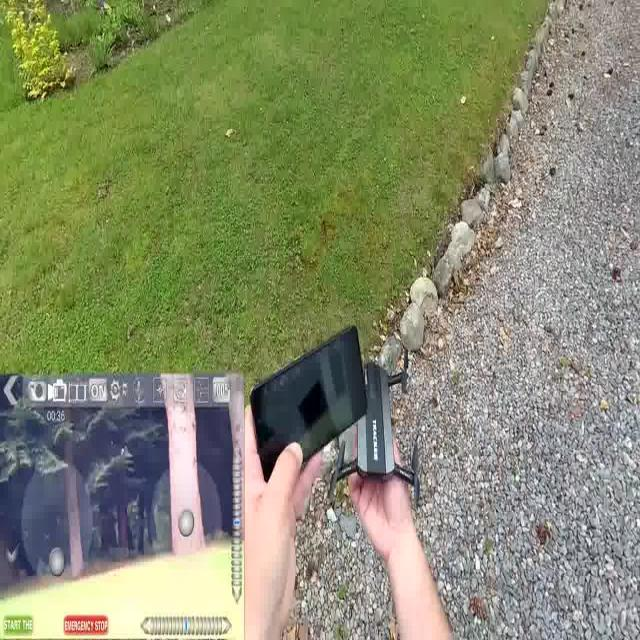drones: (320, 340, 428, 516)
